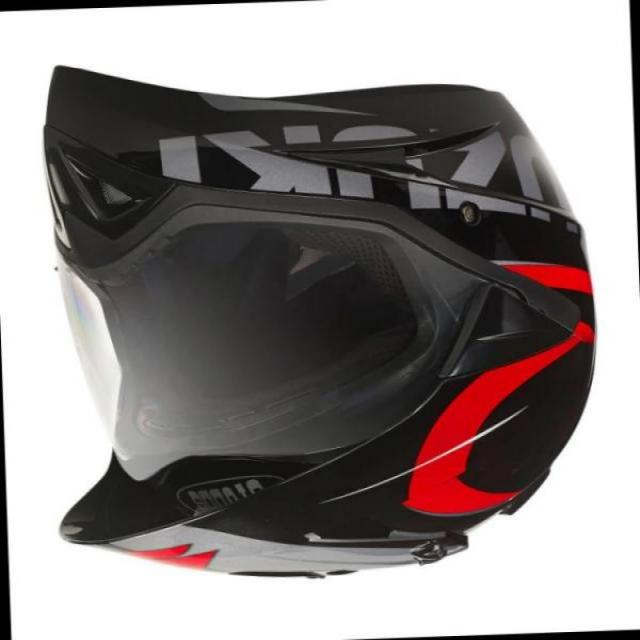Helmet: (39, 48, 614, 582)
